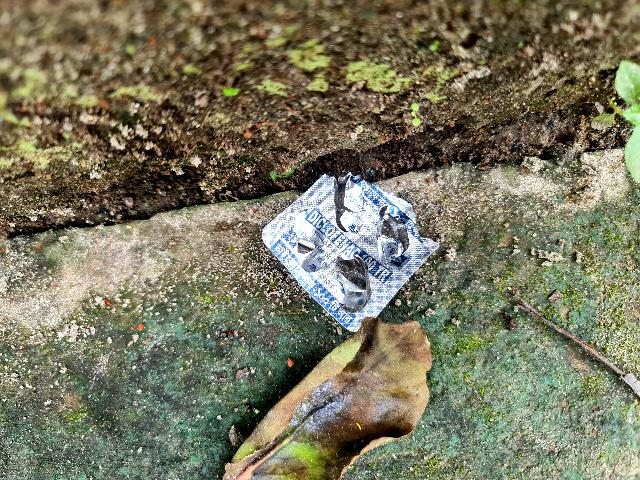medicine: (252, 165, 451, 332)
